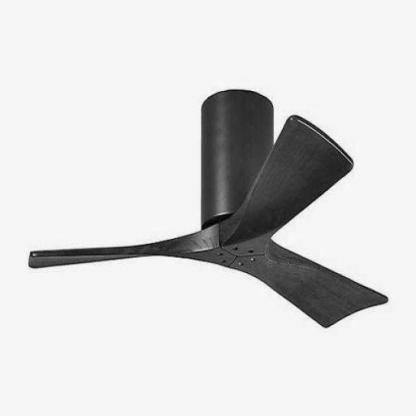ceiling-fan: (26, 89, 388, 328)
